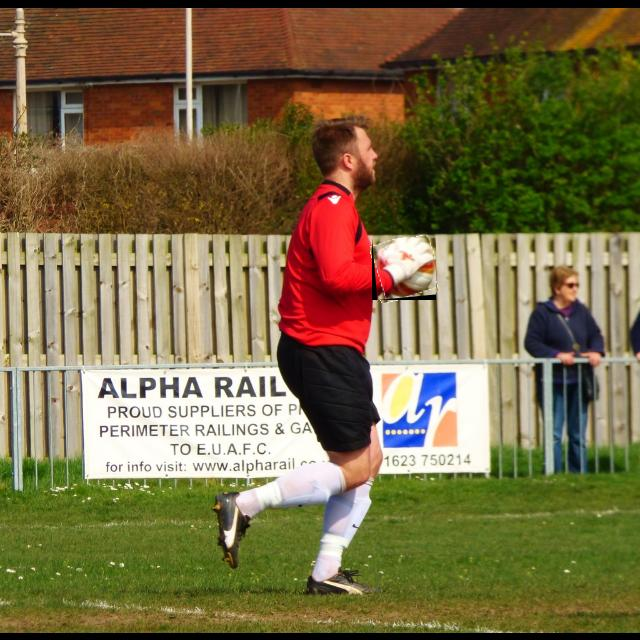Football: (372, 238, 436, 300)
